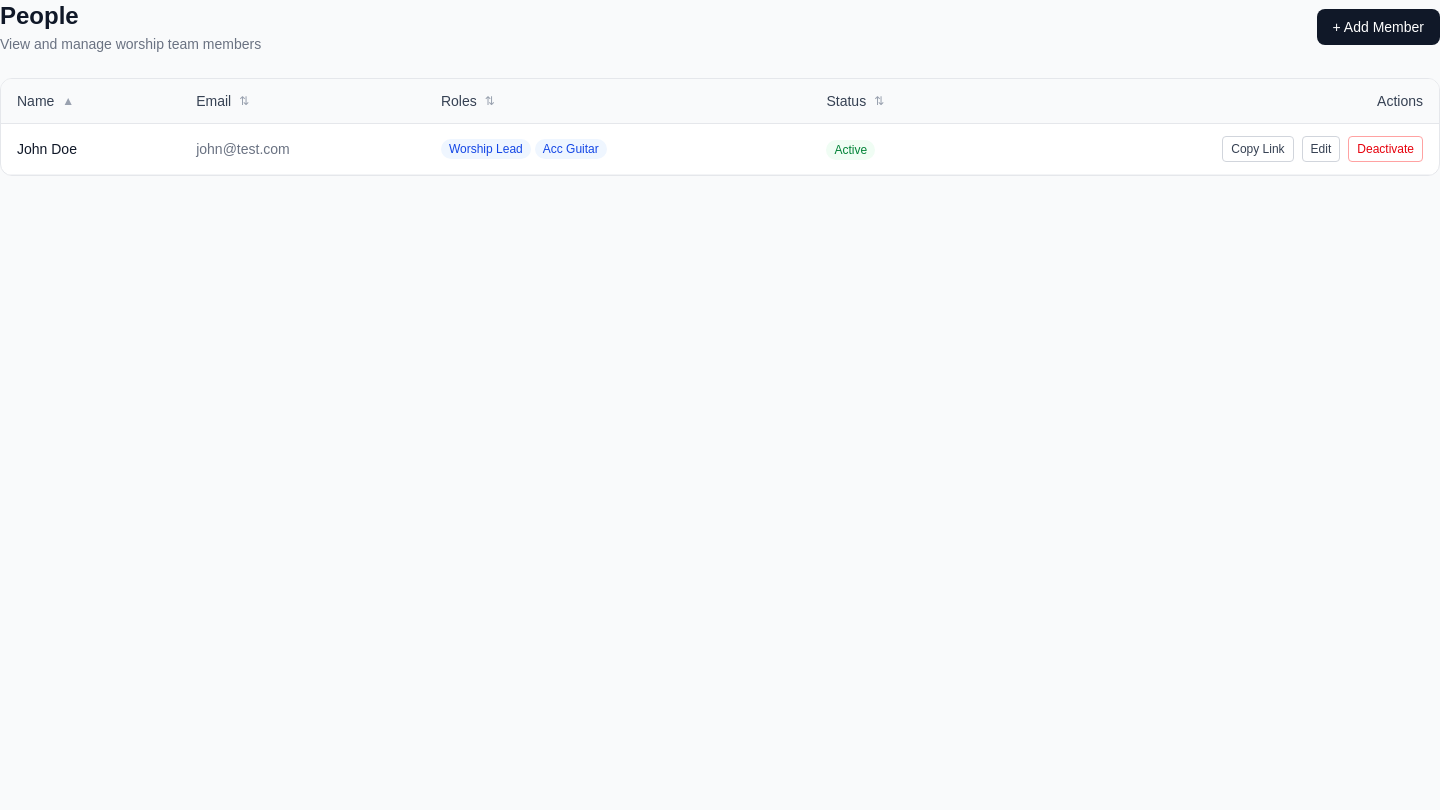
Test: Journey: Admin can manage members › Admin: Edit Member modal pre-populates fields from selected member
Step 1. Click the button "Edit" → {"x": 1321, "y": 149}, box [1302,136,1340,162]
(page scrolled)
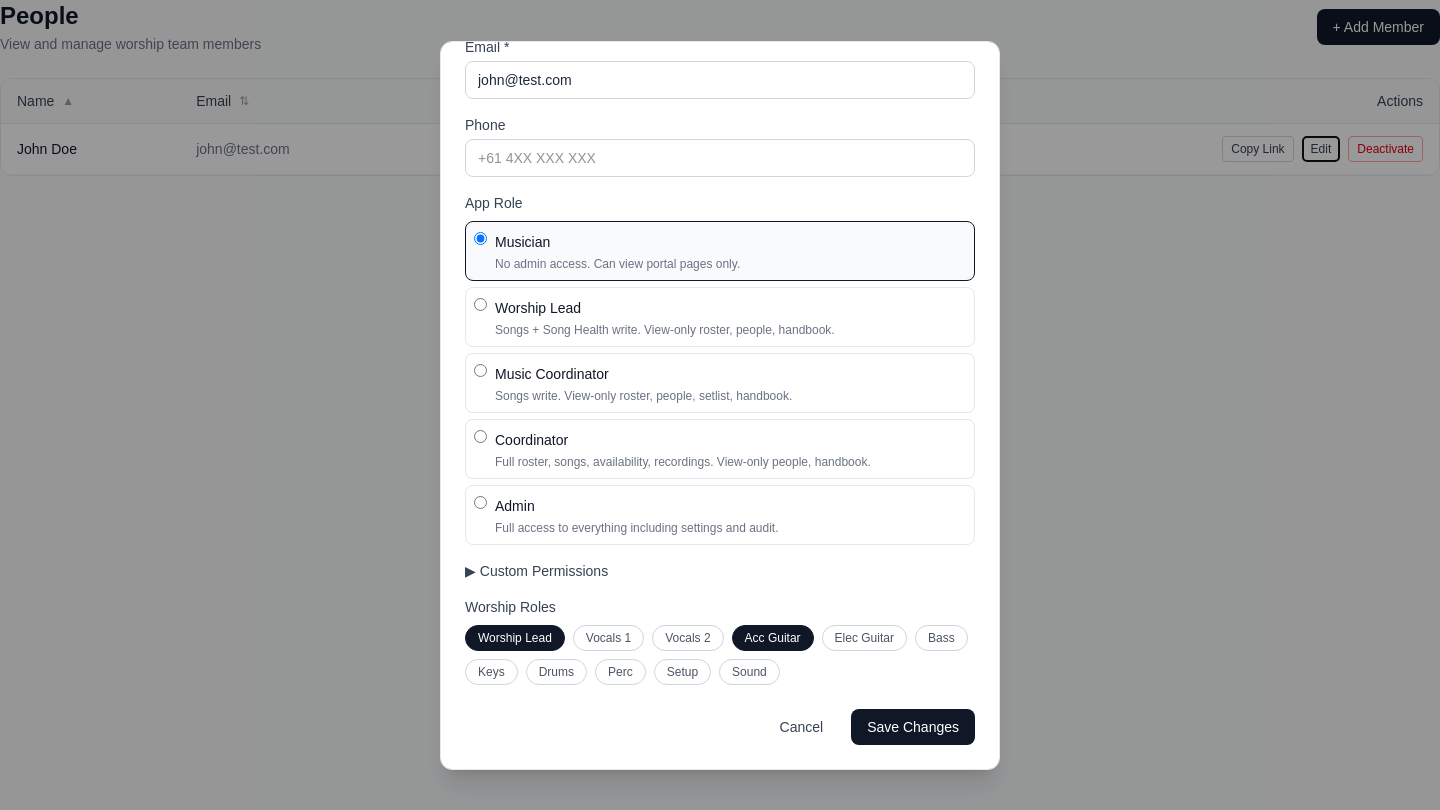
Result: the button "Save Changes" is shown at [851,708,975,744]
